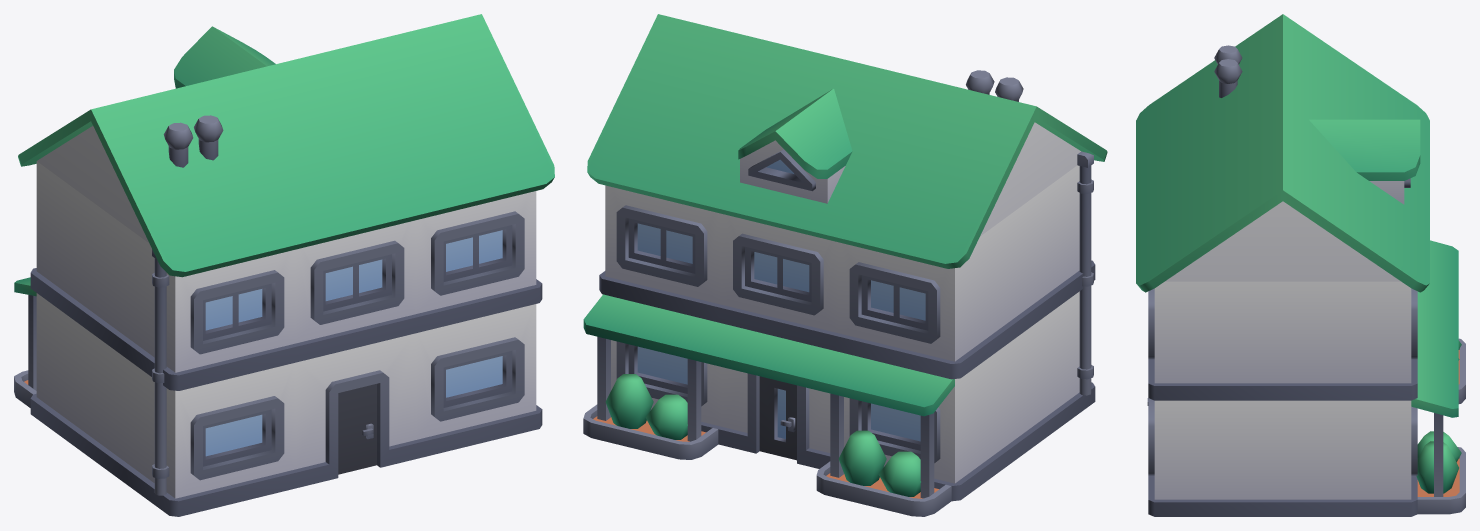
The model's file is house-c.glb.
3 renders of one model, left to right at view 1: azimuth 30°, elevation 25°; view 2: azimuth 150°, elevation 25°; view 3: azimuth 270°, elevation 25°, orthographic. The views are drawn at different scales.
Visible parts, largest first — view 1: house-c; view 2: house-c; view 3: house-c.
Boxes of the visible parts, x1,y1,x2,y2 form: house-c: (14,14,554,516); house-c: (583,14,1107,516); house-c: (1136,14,1465,516).
Size of the model in its own units: 1.3 by 1.14 by 1.03.
